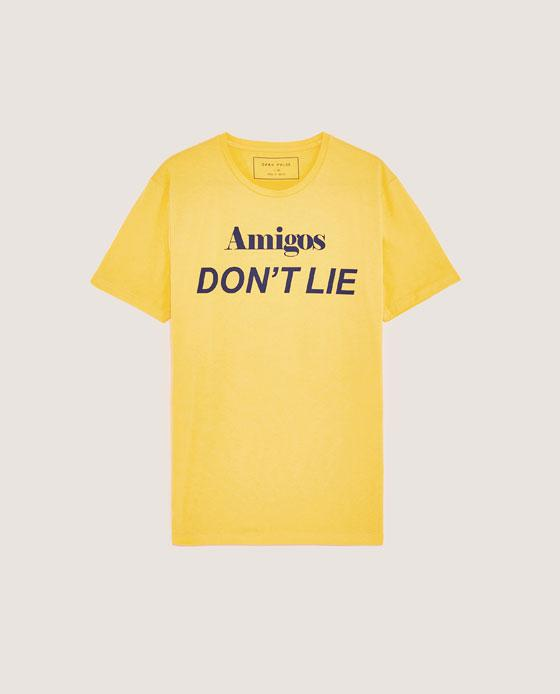teeshirt: (95, 120, 480, 577)
